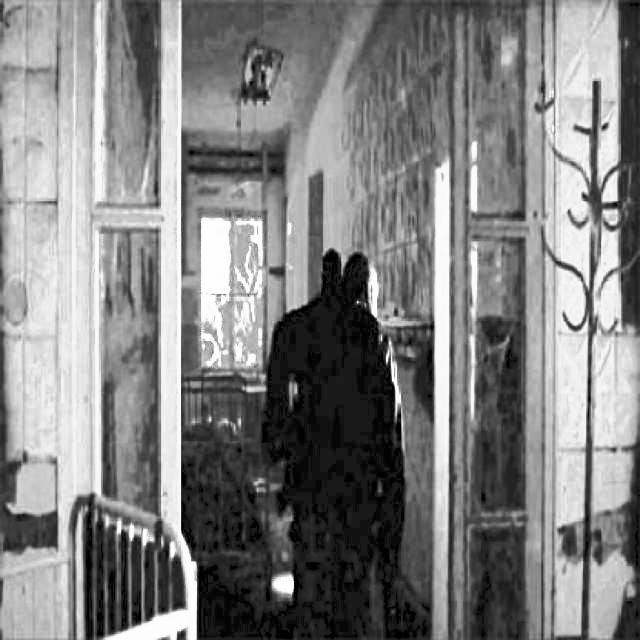Person: (264, 244, 413, 640)
